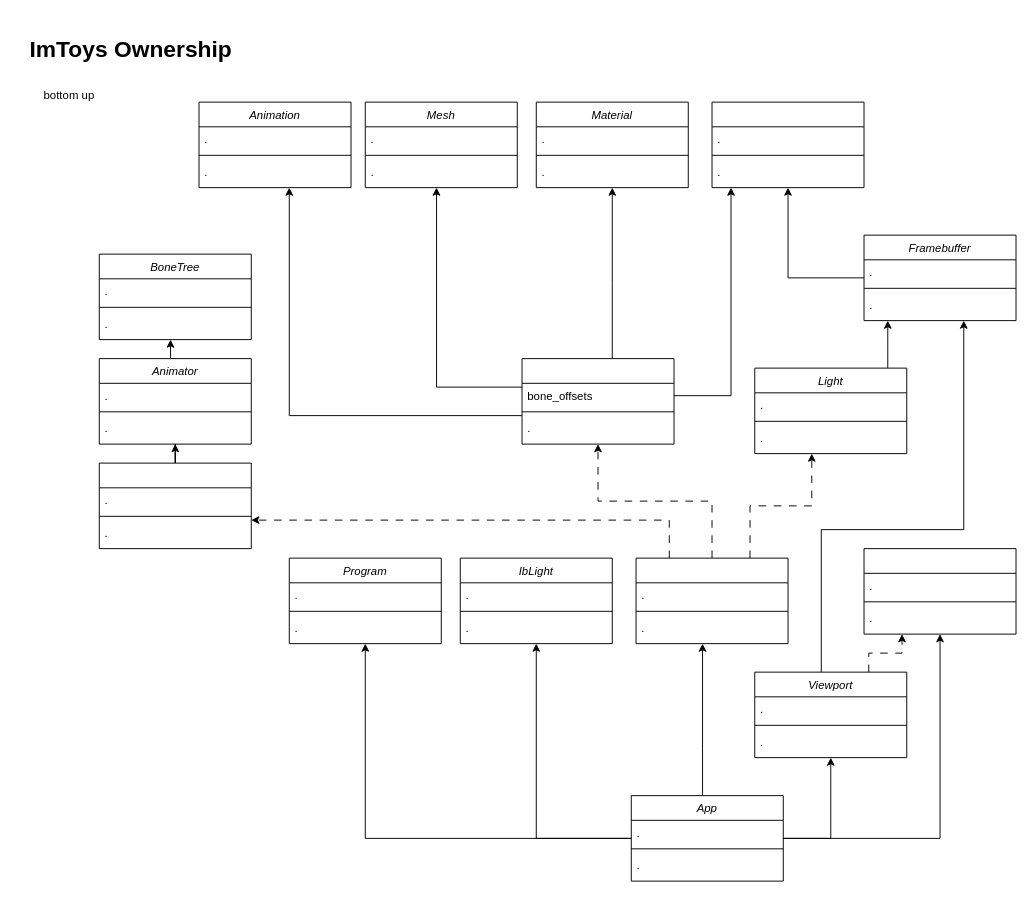
The diagram is 1033 pixels wide and 898 high, and some of its shapes have lost their labels. The box of each missing label's shape, as (x1, y1, x2, y2) in pixels:
Camera: (863, 548, 1016, 634)
Model: (521, 358, 674, 444)
ModelView: (98, 462, 251, 549)
Scene: (635, 557, 788, 644)
Texture: (711, 101, 864, 188)
